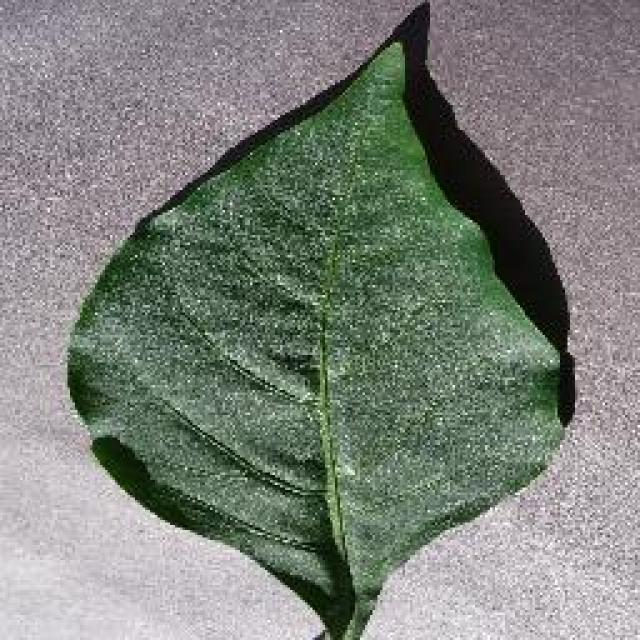Chilli_Healthy: (63, 0, 575, 638)
